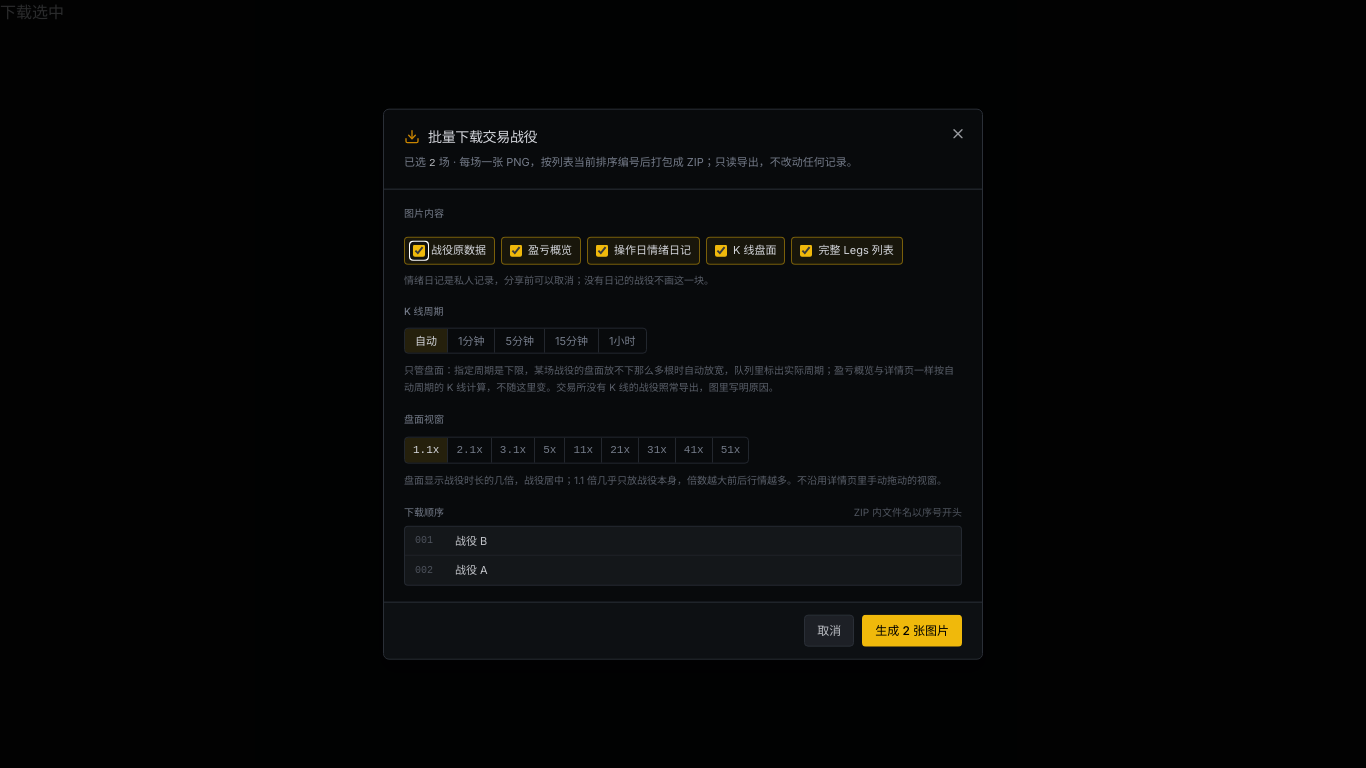
it: 批量下载弹窗关闭后的焦点 › 右上角关闭叉 关闭：焦点回到打开它的「下载选中」，不落到 <body>
Click the button named "关闭" at (958, 134), box [950,126,966,142]
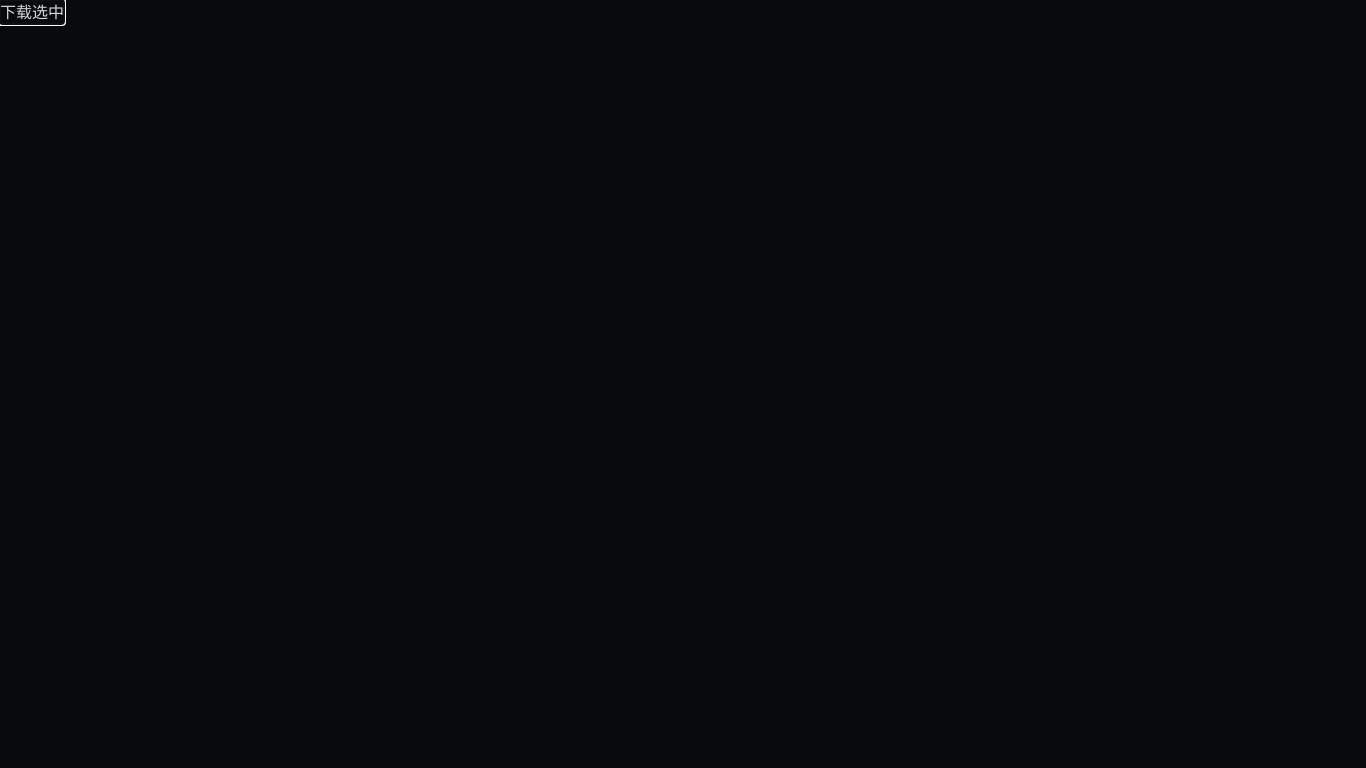
Check: the dialog with test id "campaign-batch-export-dialog" is gone
